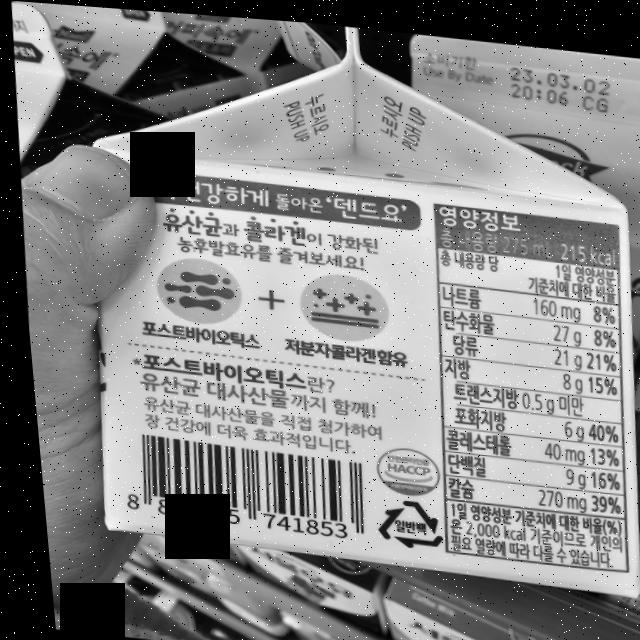NormalPack: (363, 489, 437, 552)
